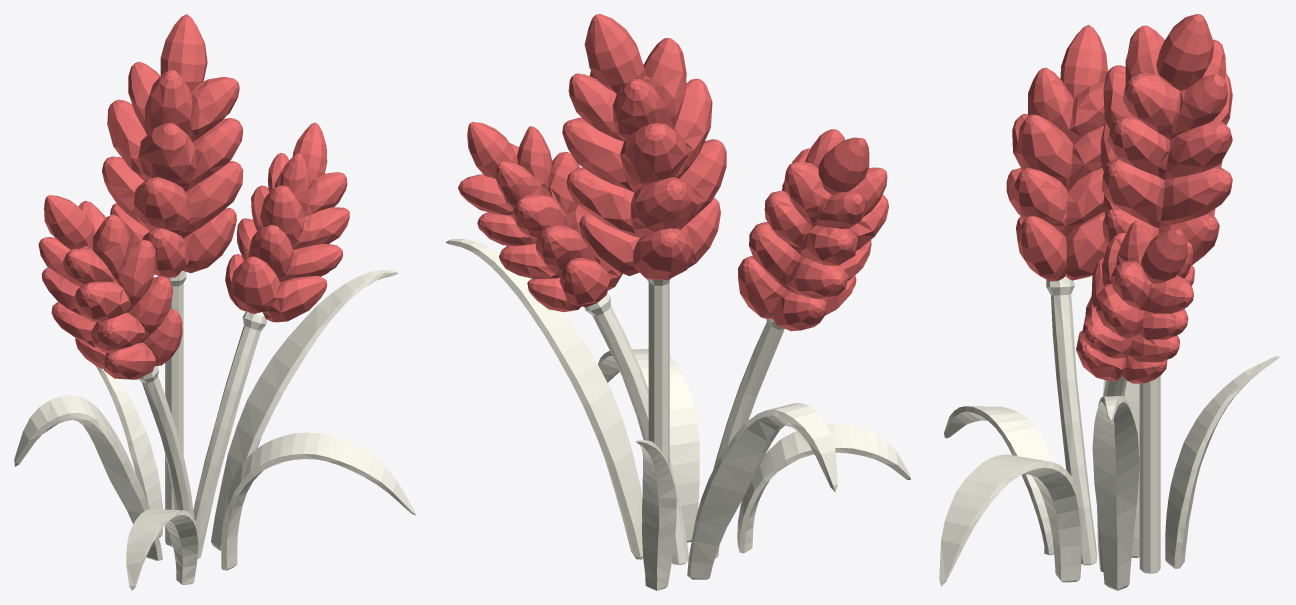
File: crop_mugi3.glb
3 views of the same model, side by side, from view 1: azimuth 30°, elevation 25°; view 2: azimuth 150°, elevation 25°; view 3: azimuth 270°, elevation 25° (orthographic). The views are drawn at different scales.
Parts seen in each view (by area): view 1: cap, stem; view 2: cap, stem; view 3: cap, stem.
Part boxes in pixels (x1,y1,x2,y2): cap: [38, 14, 349, 379]; stem: [14, 270, 416, 590]; cap: [458, 14, 888, 331]; stem: [445, 238, 910, 590]; cap: [1006, 14, 1232, 383]; stem: [939, 276, 1280, 590].
Bounding box in the file's own units: 0.2539 × 0.3354 × 0.1812.
